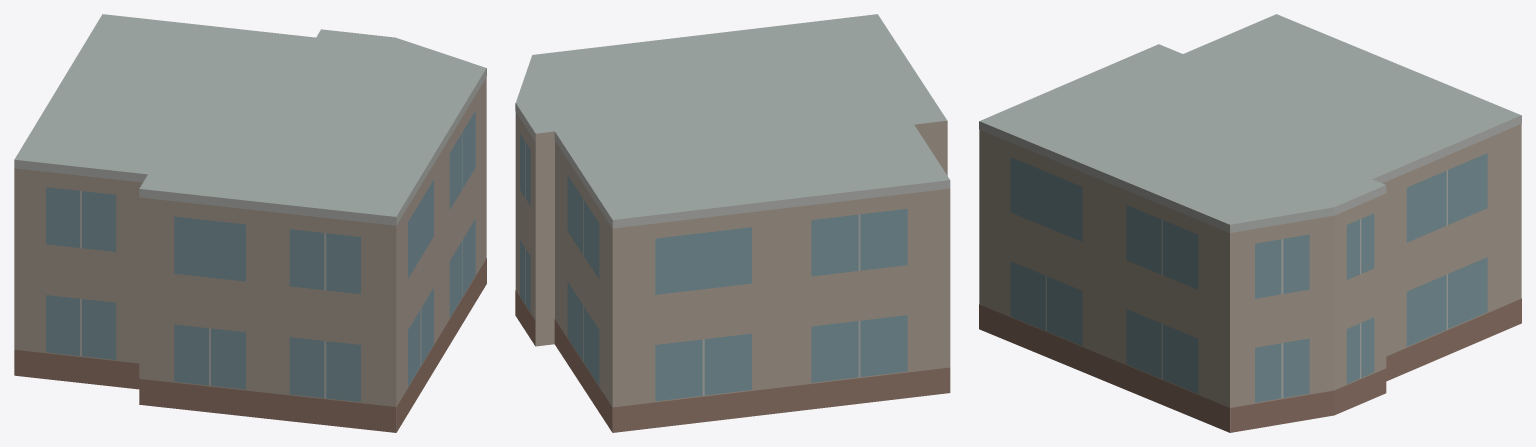
Rendered from survey-upis-32913711.glb.
3 views of the same model, side by side, from view 1: azimuth 30°, elevation 25°; view 2: azimuth 150°, elevation 25°; view 3: azimuth 270°, elevation 25° (orthographic). The views are drawn at different scales.
Parts seen in each view (by area): view 1: survey-upis-32913711.tmp; view 2: survey-upis-32913711.tmp; view 3: survey-upis-32913711.tmp.
Part boxes in pixels (bbox=[...]): survey-upis-32913711.tmp: bbox=[14, 14, 486, 432]; survey-upis-32913711.tmp: bbox=[515, 14, 950, 432]; survey-upis-32913711.tmp: bbox=[979, 14, 1521, 432].
Bounding box in the file's own units: 13.26 × 6.1 × 14.42.
